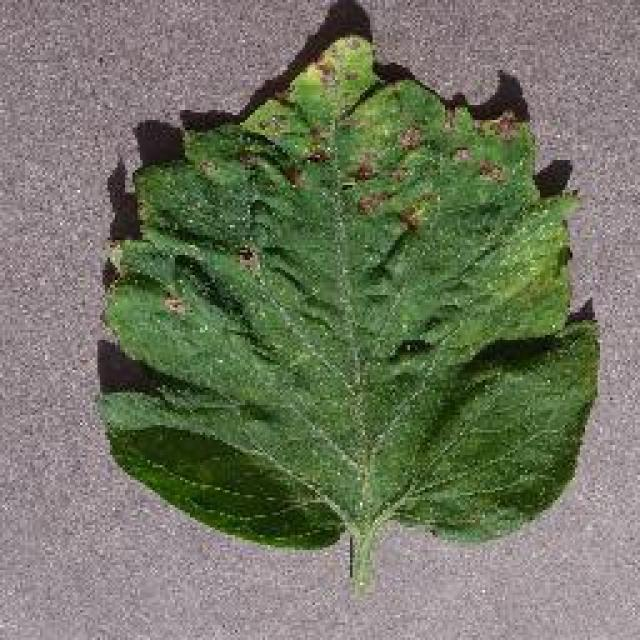Tomato Septoria spot leaf: (99, 36, 599, 549)
